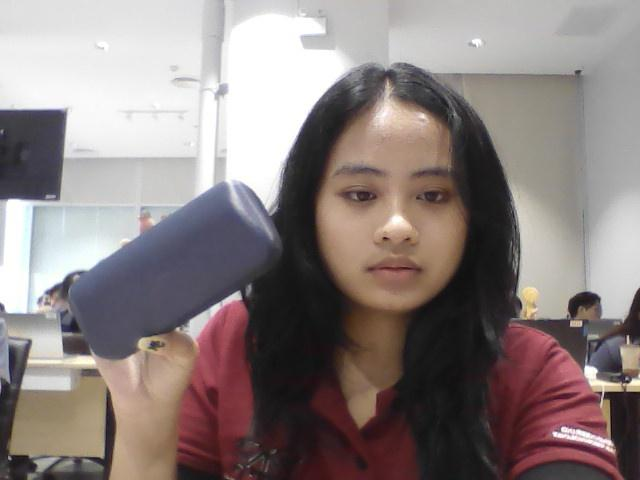glasses box: (73, 170, 281, 362)
